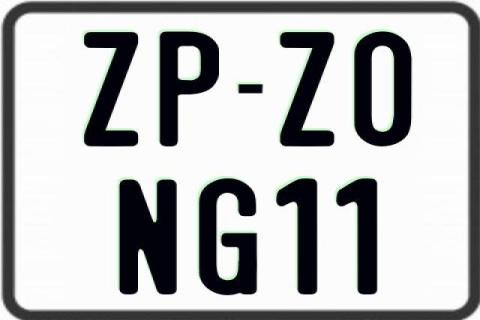0: (353, 29, 413, 144), (274, 179, 318, 299), (336, 178, 380, 298)
G: (197, 176, 255, 295)
N: (117, 178, 178, 294)
P: (159, 30, 221, 148)
Z: (278, 31, 338, 148), (81, 29, 140, 145)
